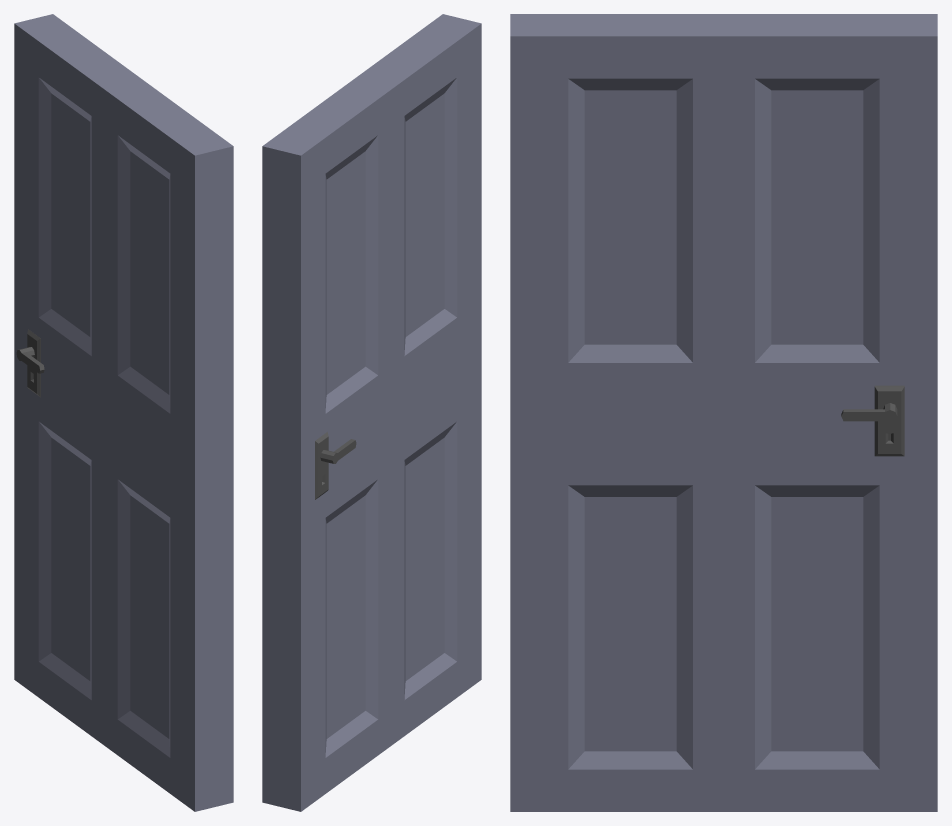
Rendered from Door.fbx.
The picture shows the model from 3 angles, left to right: view 1: azimuth 30°, elevation 25°; view 2: azimuth 150°, elevation 25°; view 3: azimuth 270°, elevation 25°; orthographic projection. The views are drawn at different scales.
Parts seen in each view (by area): view 1: Cube; view 2: Cube; view 3: Cube.
Part boxes in pixels (bbox=[...]): Cube: bbox=[14, 14, 233, 811]; Cube: bbox=[262, 14, 481, 811]; Cube: bbox=[510, 14, 937, 811].
Bounding box in the file's own units: 24.46 × 220 × 110.
